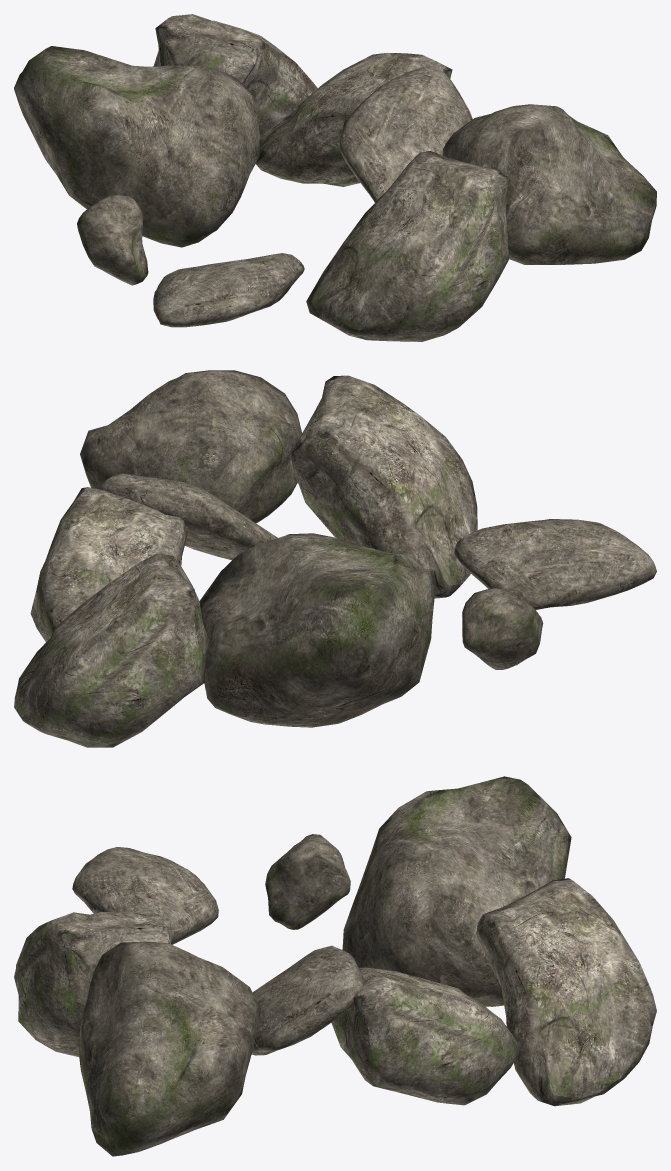
File: Granite_Low.obj
The picture shows the model from 3 angles, top to bottom: view 1: azimuth 30°, elevation 25°; view 2: azimuth 150°, elevation 25°; view 3: azimuth 270°, elevation 25°; orthographic projection. The views are drawn at different scales.
Visible parts, largest first — view 1: Granite_Low; view 2: Granite_Low; view 3: Granite_Low.
Boxes of the visible parts, bbox=[...] form: Granite_Low: bbox=[14, 14, 656, 341]; Granite_Low: bbox=[14, 370, 656, 747]; Granite_Low: bbox=[14, 776, 656, 1156].
Bounding box in the file's own units: 11.66 × 3.92 × 12.07.
Materials: 3 (3 with a texture image).
